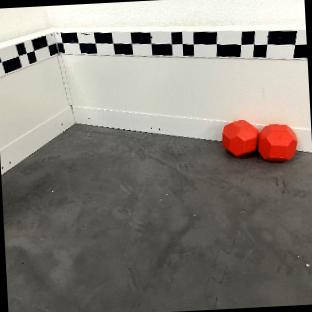V5_RED: (220, 118, 299, 163)
